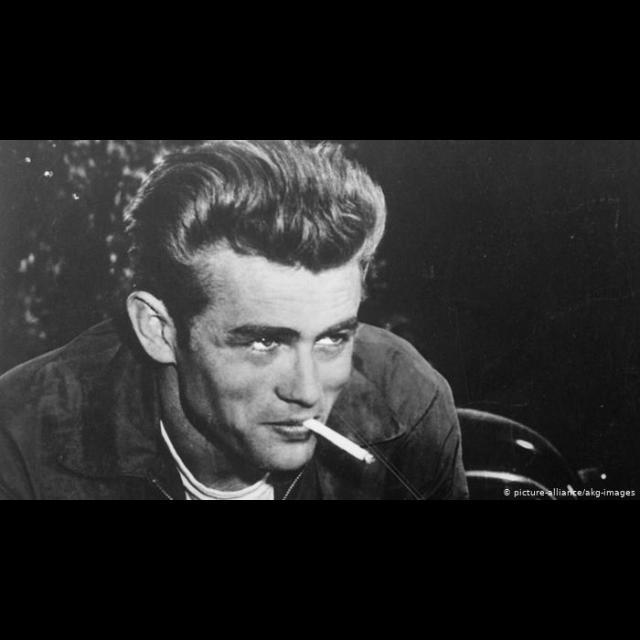rokok: (302, 412, 380, 473)
